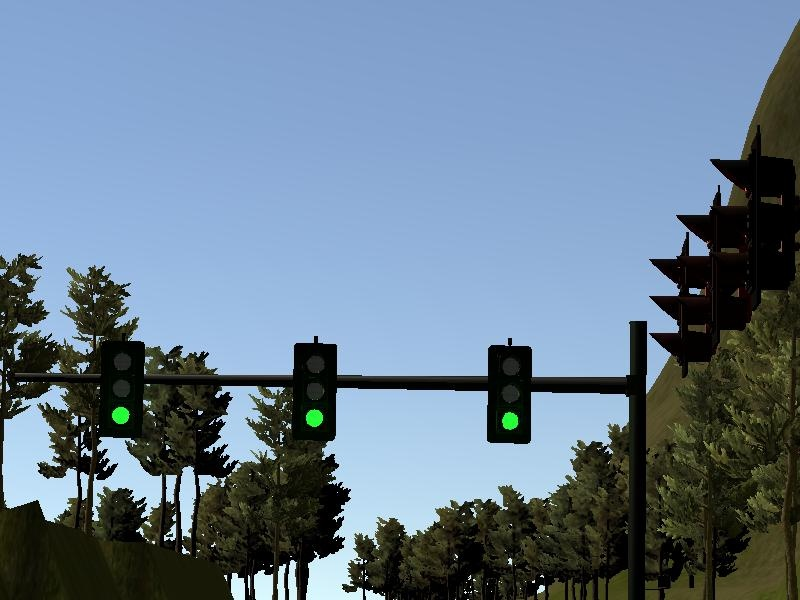green: (485, 345, 532, 445), (99, 341, 145, 439), (293, 344, 337, 441)
